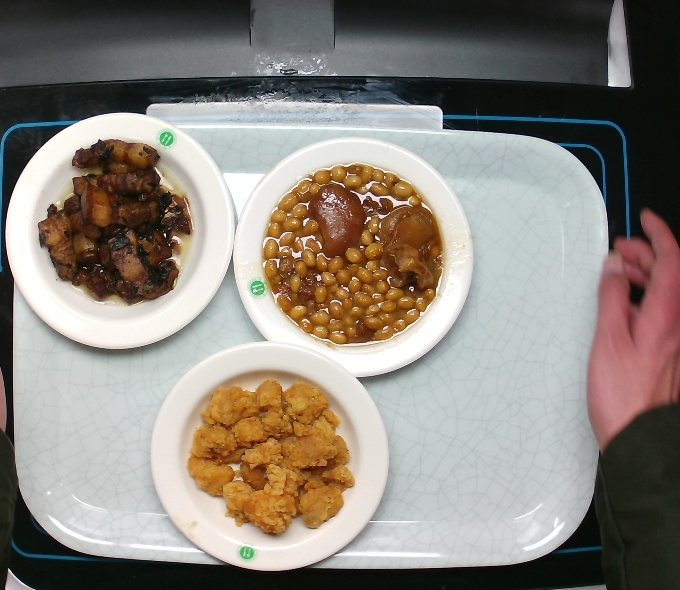wcq-GanCaiRou: (33, 134, 200, 311)
wcq-HuangDouZhuJiao: (253, 156, 450, 356)
wcq-JiMiHua: (181, 371, 359, 537)
